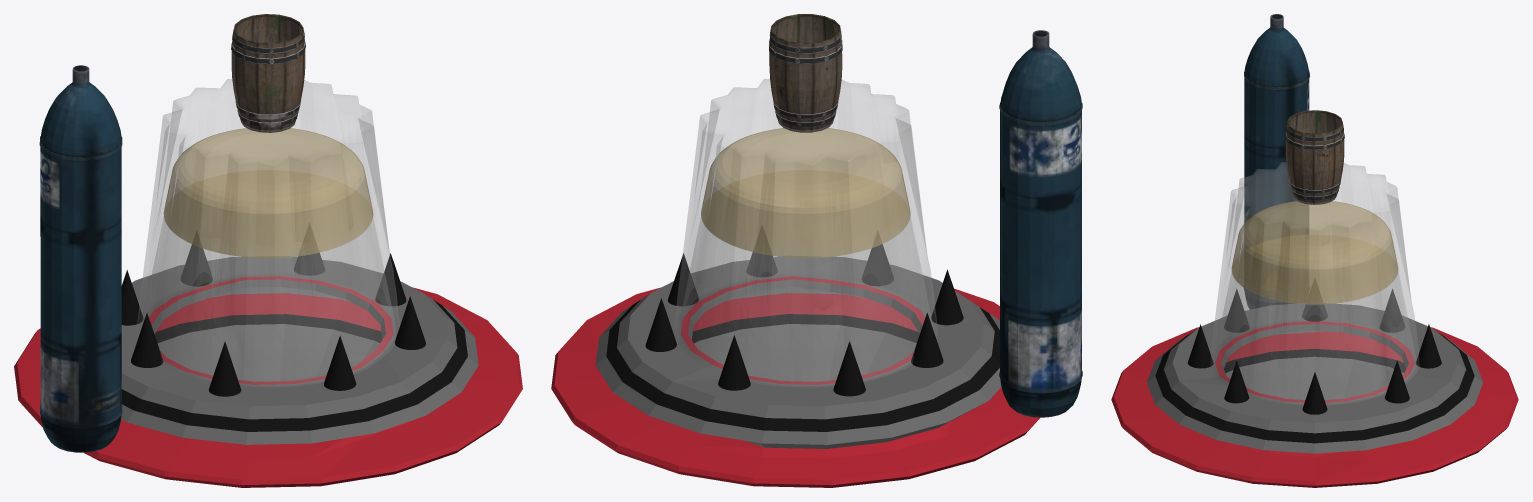
3 renders of one model, left to right at view 1: azimuth 30°, elevation 25°; view 2: azimuth 150°, elevation 25°; view 3: azimuth 270°, elevation 25°, orthographic. The views are drawn at different scales.
Visible parts, largest first — view 1: slot_anchor_saucer, slot_dome, slot_add04_a_blue_metal_gas_c, slot_add05_a_wooden_barrel_wi; view 2: slot_anchor_saucer, slot_dome, slot_add04_a_blue_metal_gas_c, slot_add05_a_wooden_barrel_wi; view 3: slot_anchor_saucer, slot_dome, slot_add04_a_blue_metal_gas_c, slot_add05_a_wooden_barrel_wi.
Boxes of the visible parts, x1,y1,x2,y2 form: slot_anchor_saucer: (14, 244, 522, 487); slot_dome: (136, 79, 399, 386); slot_add04_a_blue_metal_gas_c: (39, 65, 122, 452); slot_add05_a_wooden_barrel_wi: (231, 14, 305, 132); slot_anchor_saucer: (551, 244, 1039, 487); slot_dome: (674, 79, 937, 386); slot_add04_a_blue_metal_gas_c: (999, 30, 1082, 417); slot_add05_a_wooden_barrel_wi: (769, 14, 842, 132); slot_anchor_saucer: (1111, 289, 1518, 487); slot_dome: (1211, 162, 1418, 404); slot_add04_a_blue_metal_gas_c: (1244, 14, 1309, 309); slot_add05_a_wooden_barrel_wi: (1285, 110, 1344, 204).
Size of the model in its own units: 2.11 by 1.97 by 2.
4 materials, 4 textured.
